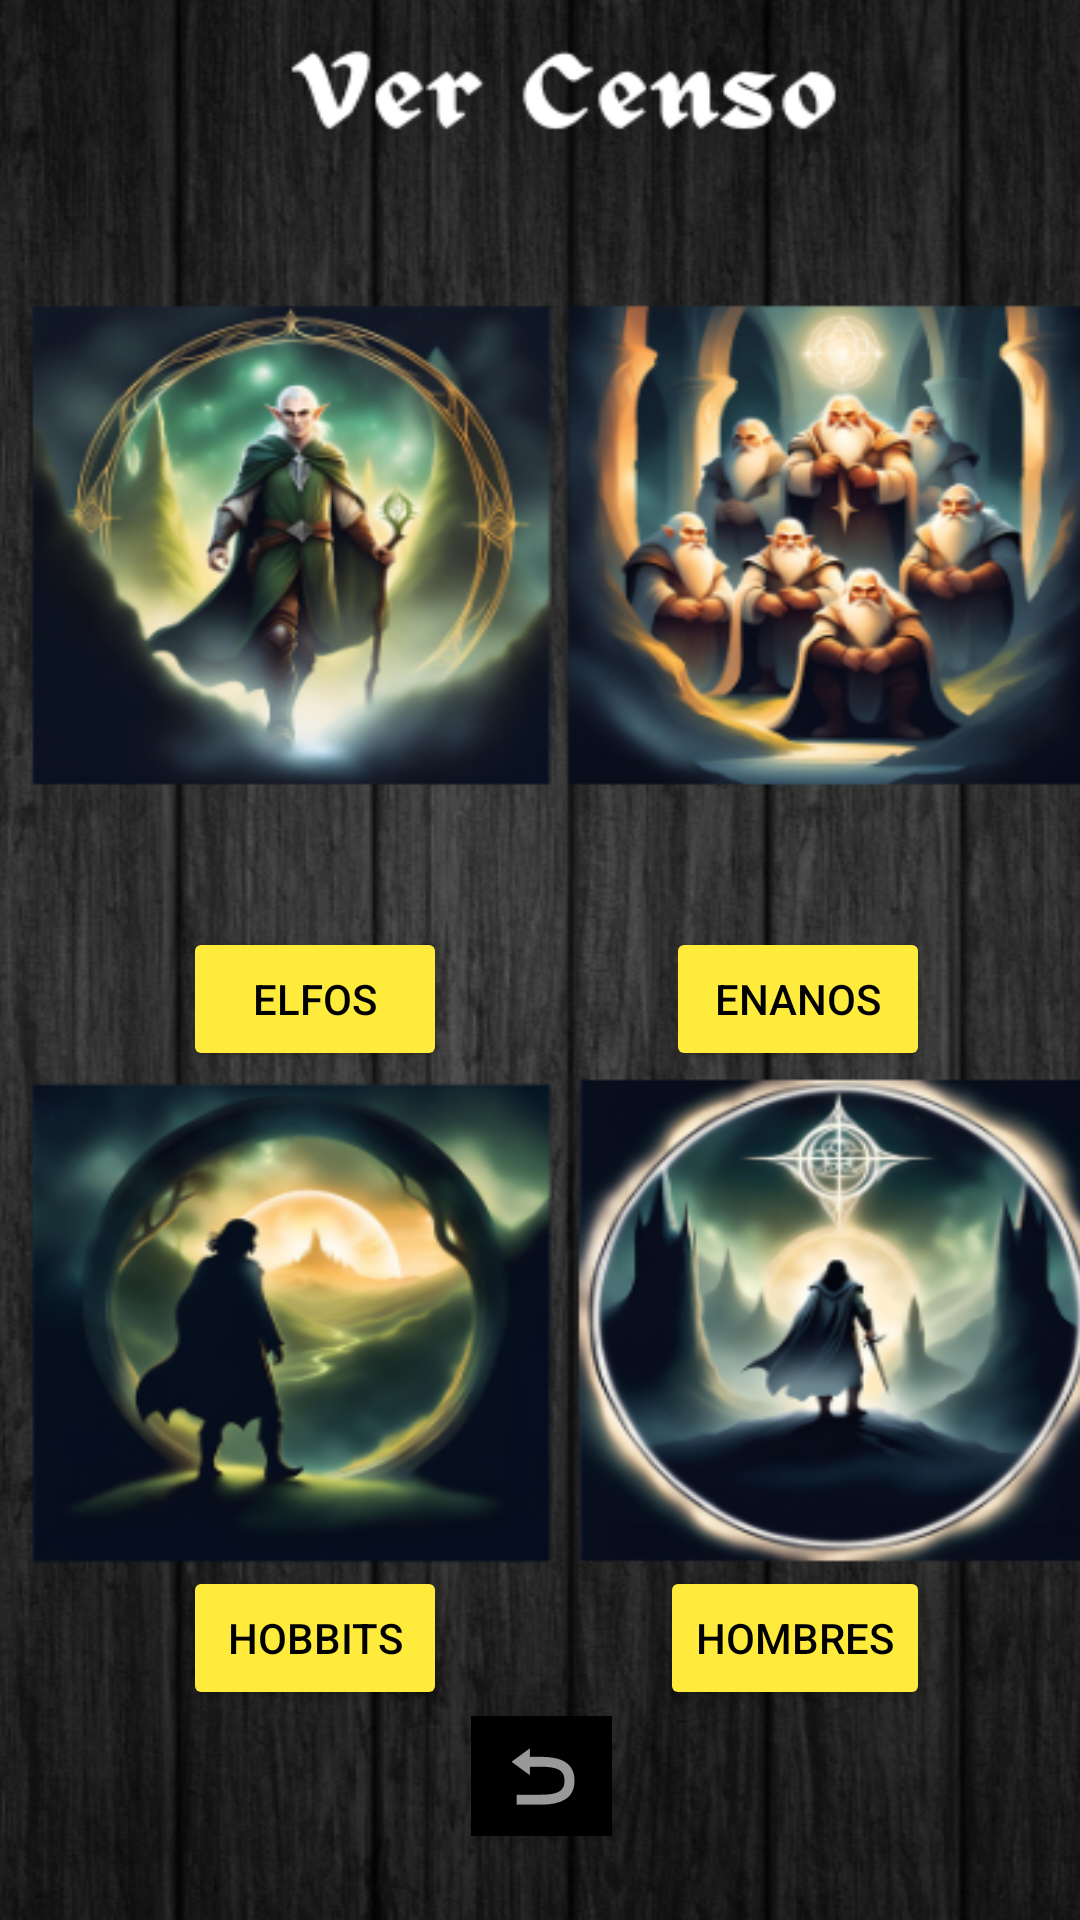

Named icons in this screenshot (1080px x 1920px) and their centers, [x,y]:
revert: [541,1776]
